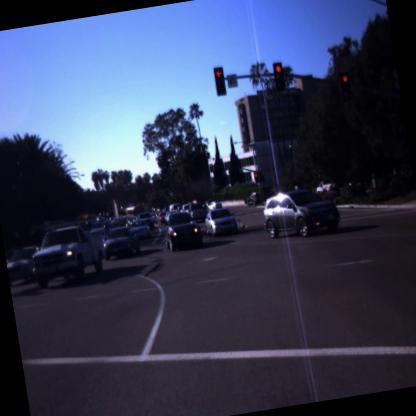trafficlight: (209, 60, 230, 99), (270, 58, 290, 96), (338, 68, 356, 103)
